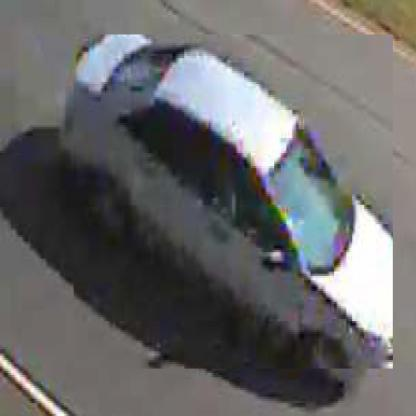car: (75, 36, 395, 372)
